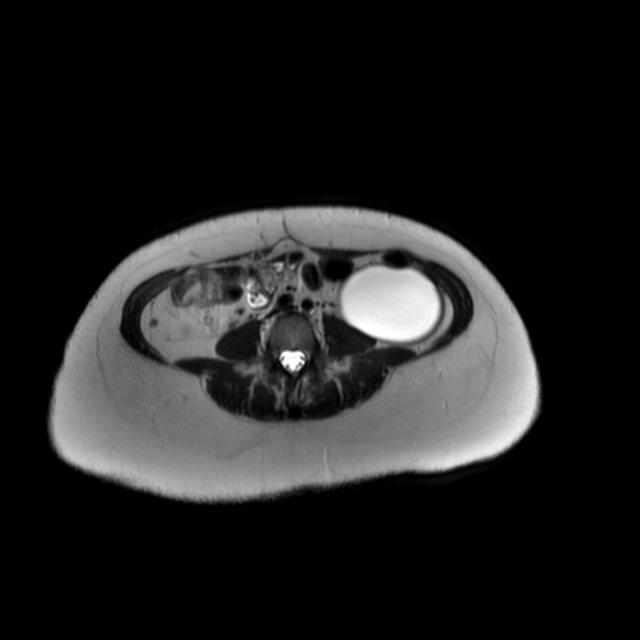sol: (336, 262, 443, 343)
